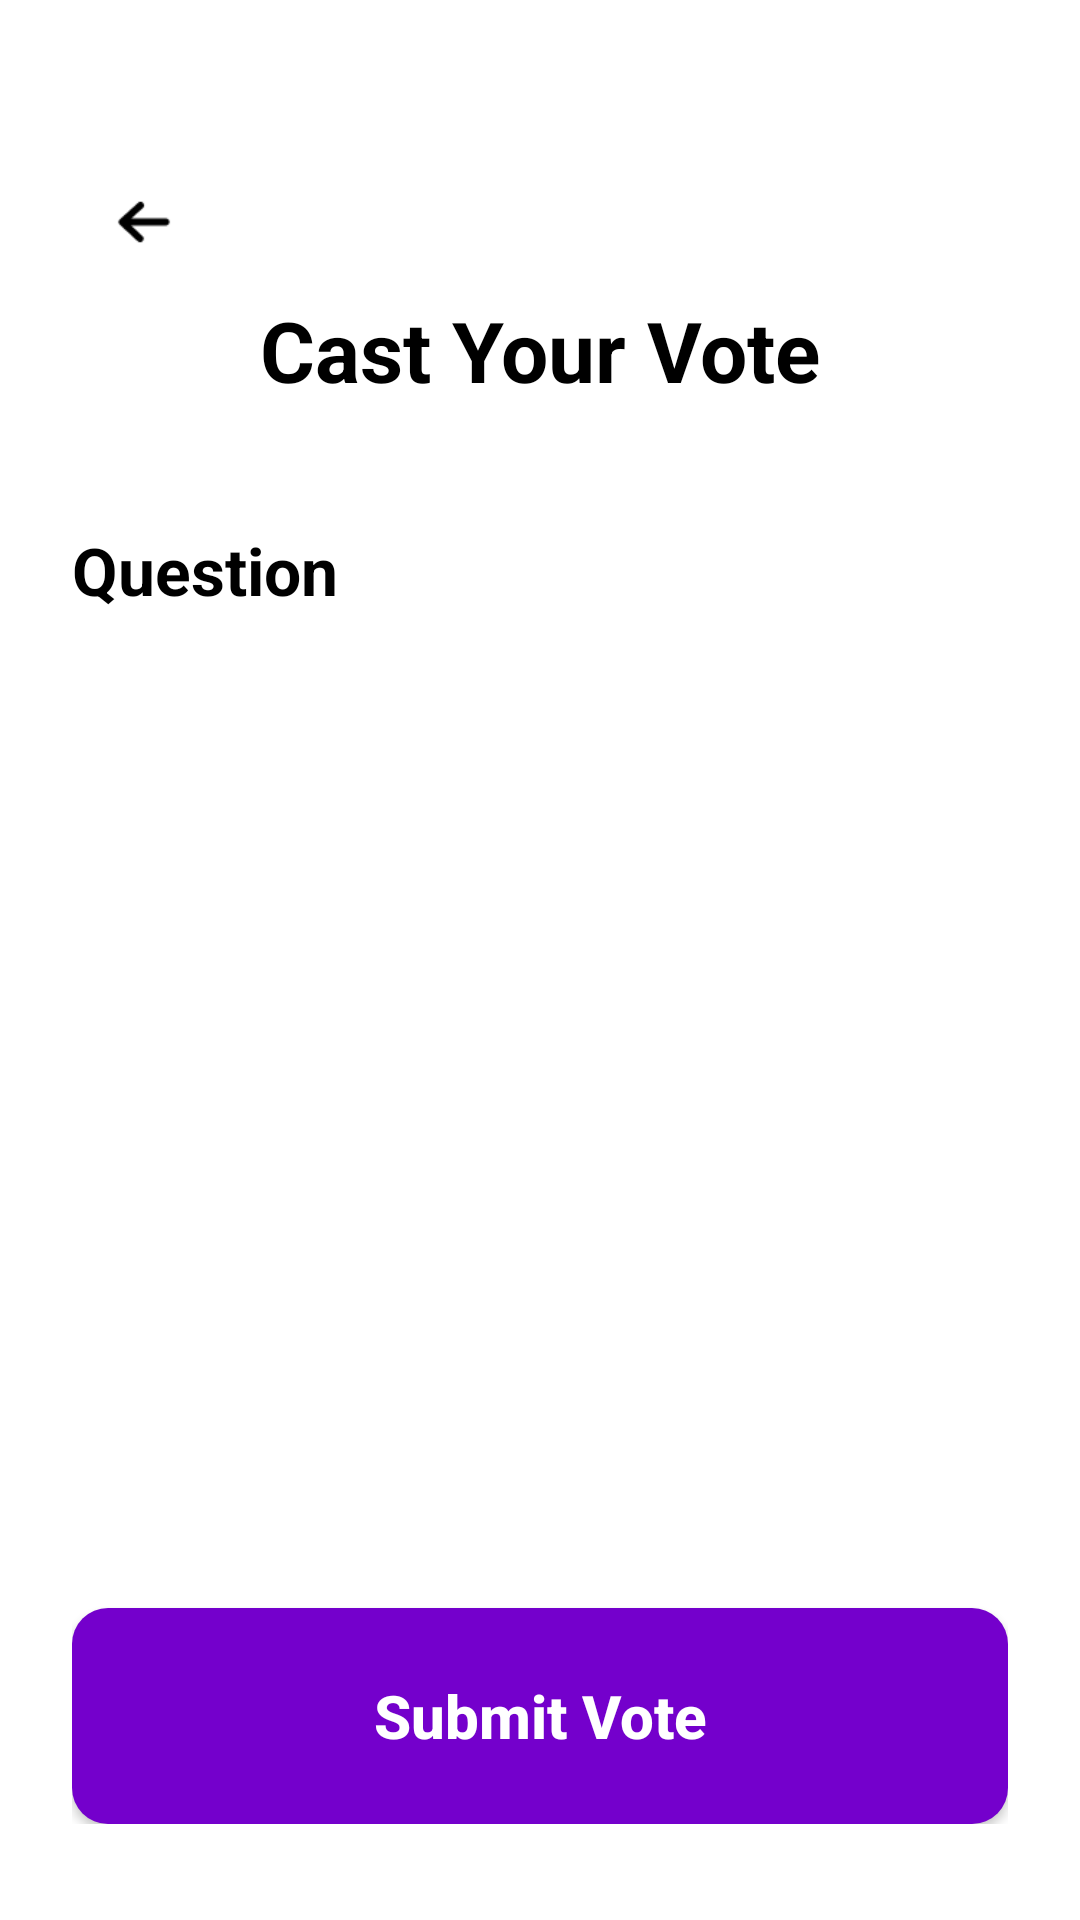

Named icons in this screenshot (1080×1920) and their bounding boxes, BBox(x1, y1, x2, y2):
back arrow: BBox(118, 201, 170, 243)
